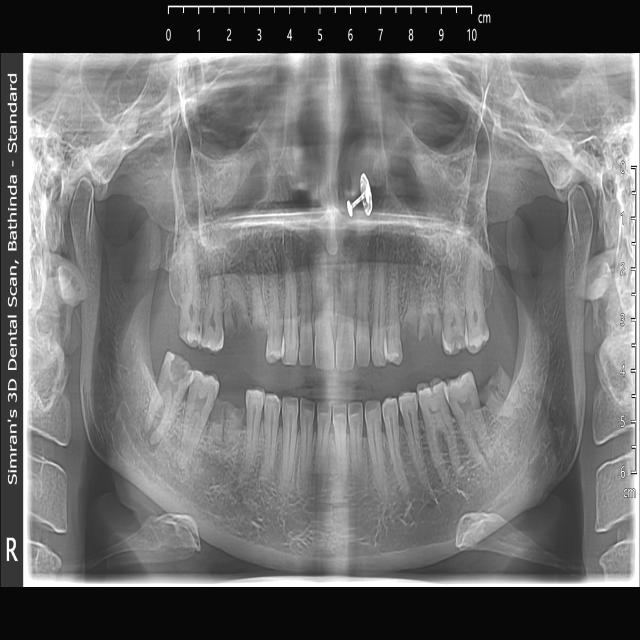Caries: (169, 355, 188, 382), (449, 336, 464, 351)
Mandibular Canal: (406, 338, 565, 532), (104, 317, 231, 524)
Periapical lesion: (142, 423, 163, 455)
Root Piece: (224, 274, 253, 334), (400, 278, 422, 347), (486, 367, 522, 409), (477, 384, 519, 418), (251, 262, 270, 334), (223, 407, 245, 454), (211, 398, 228, 451), (430, 288, 443, 337), (418, 291, 430, 337), (223, 295, 234, 333)
maxillary sinus: (376, 53, 492, 233), (175, 71, 287, 252)
